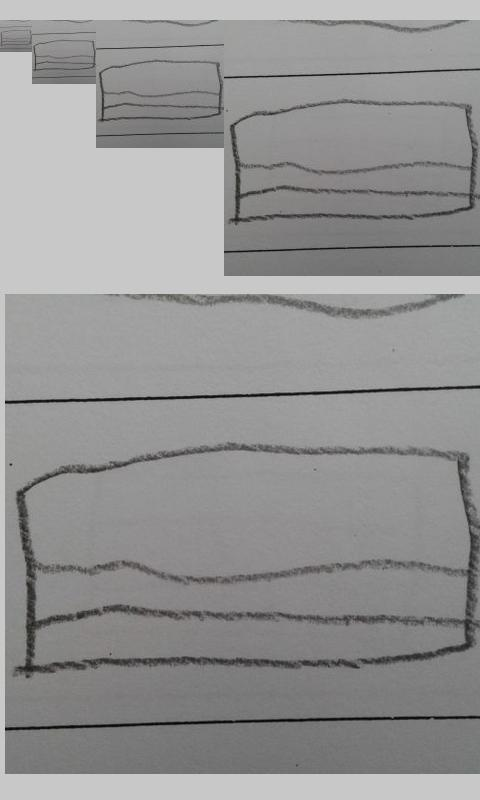list_view: (18, 441, 479, 676), (231, 98, 479, 224), (99, 58, 223, 122), (33, 39, 96, 71), (1, 29, 32, 46)
